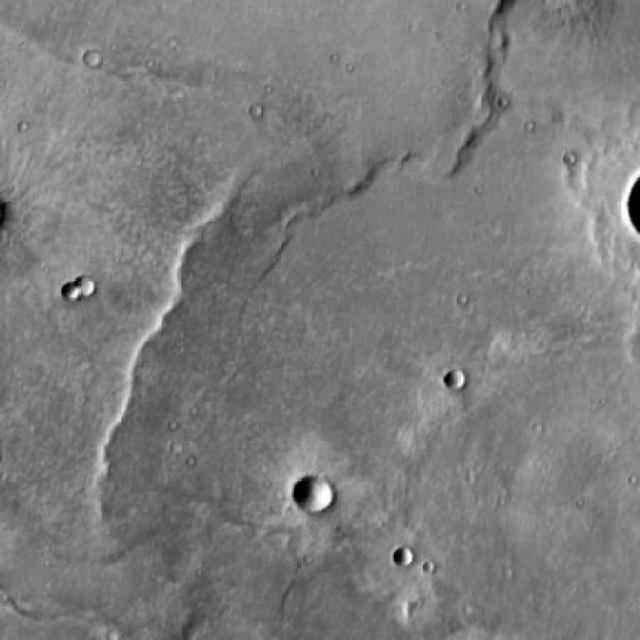crater: (437, 355, 640, 640), (309, 479, 348, 516), (87, 278, 108, 300), (460, 376, 480, 396), (74, 287, 94, 305), (402, 549, 418, 566), (34, 0, 51, 11)
